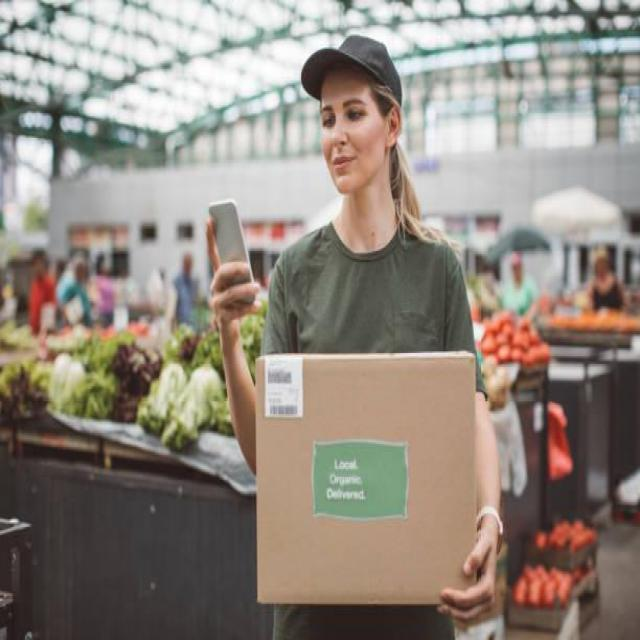box: (248, 340, 482, 610)
